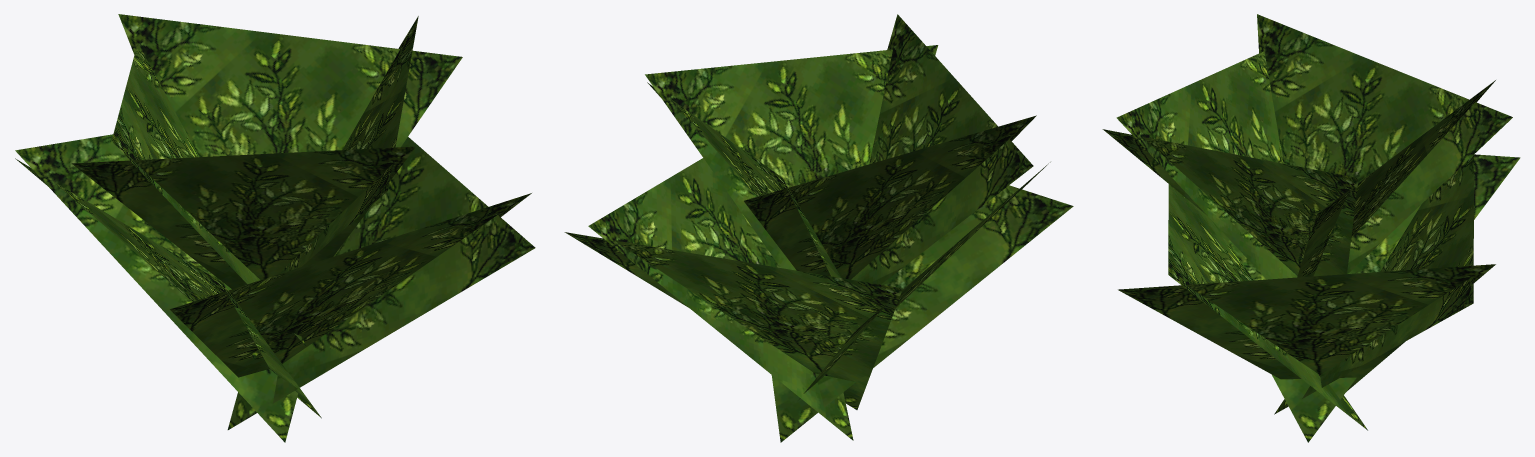
The model's file is flora_tree_bush_badlands_v3.glb.
3 renders of one model, left to right at view 1: azimuth 30°, elevation 25°; view 2: azimuth 150°, elevation 25°; view 3: azimuth 270°, elevation 25°, orthographic. The views are drawn at different scales.
Parts seen in each view (by area): view 1: flora_tree_bush_badlands_v3_part0; view 2: flora_tree_bush_badlands_v3_part0; view 3: flora_tree_bush_badlands_v3_part0.
Part boxes in pixels (bbox=[...]): flora_tree_bush_badlands_v3_part0: bbox=[15, 14, 535, 442]; flora_tree_bush_badlands_v3_part0: bbox=[564, 14, 1073, 442]; flora_tree_bush_badlands_v3_part0: bbox=[1102, 14, 1520, 442].
Bounding box in the file's own units: 10.67 × 9 × 10.56.
1 material, 1 textured.
